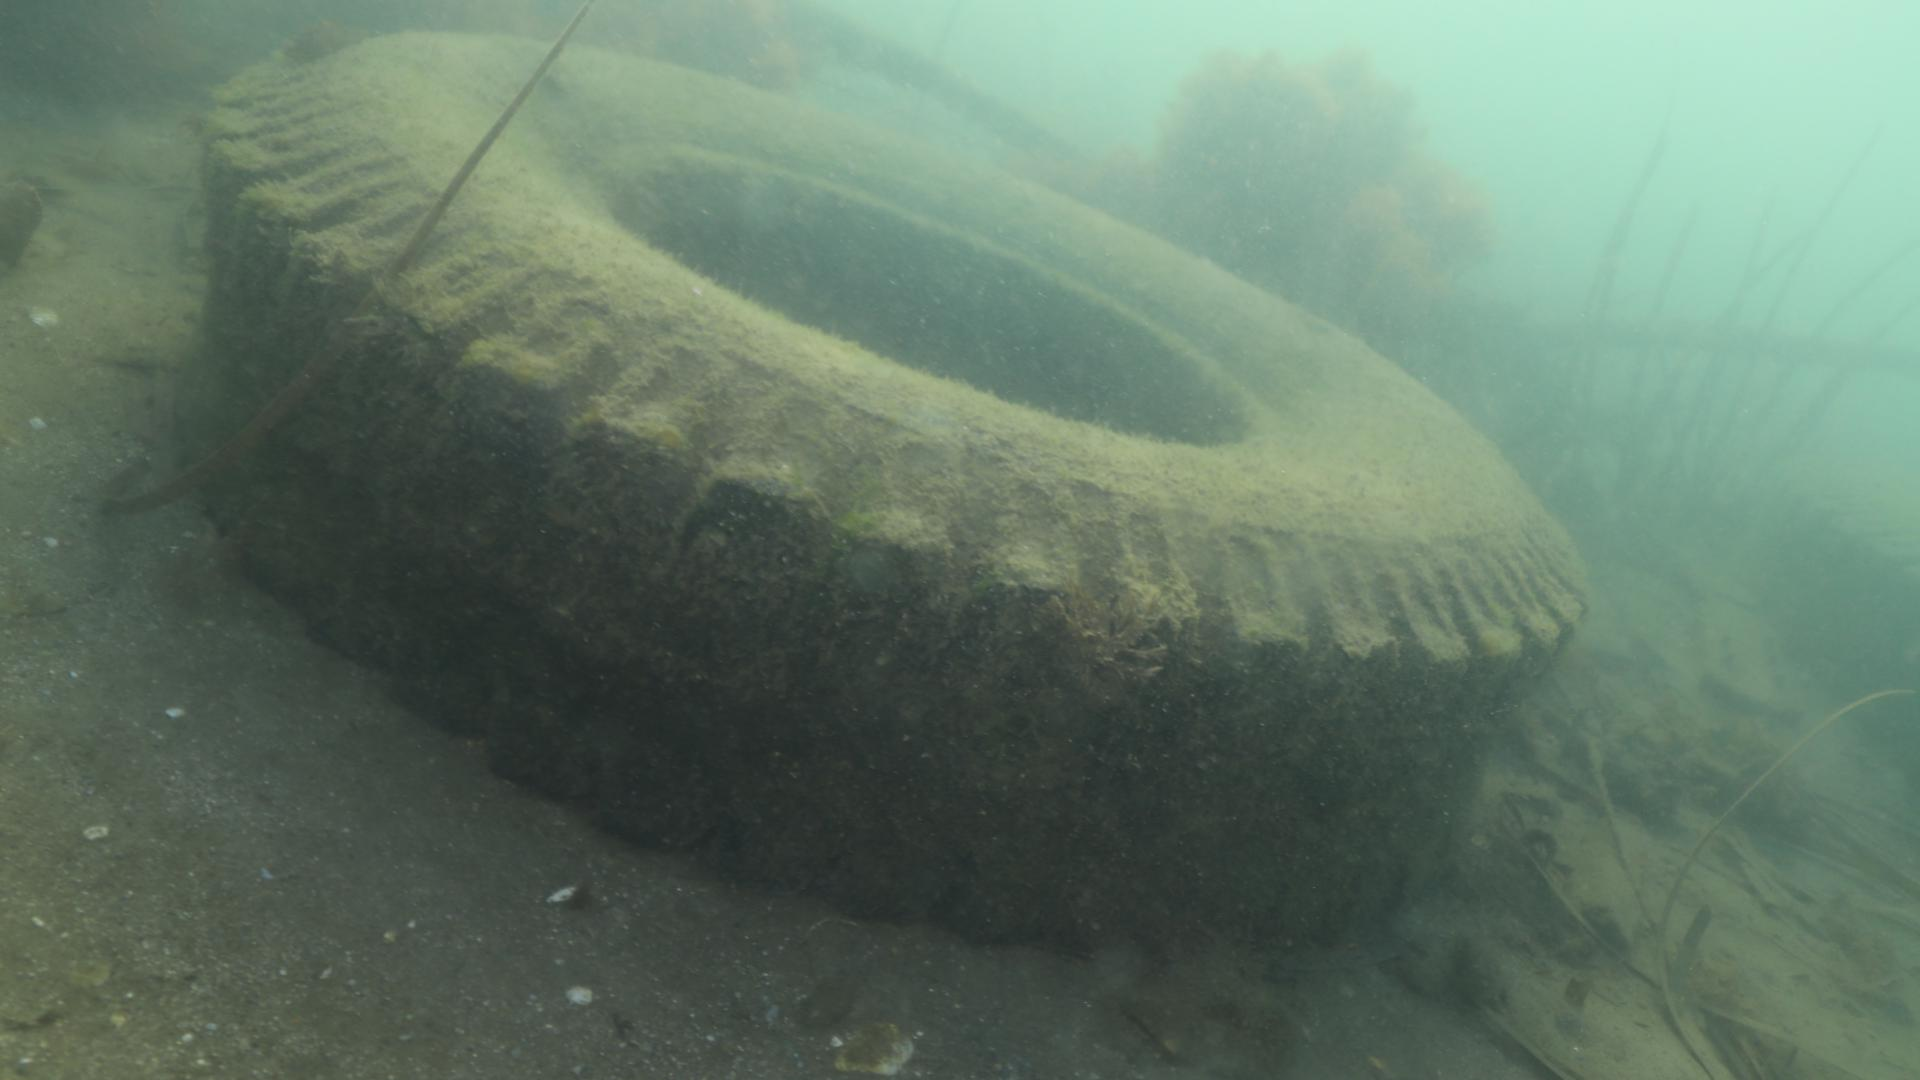tire: (171, 32, 1589, 963)
